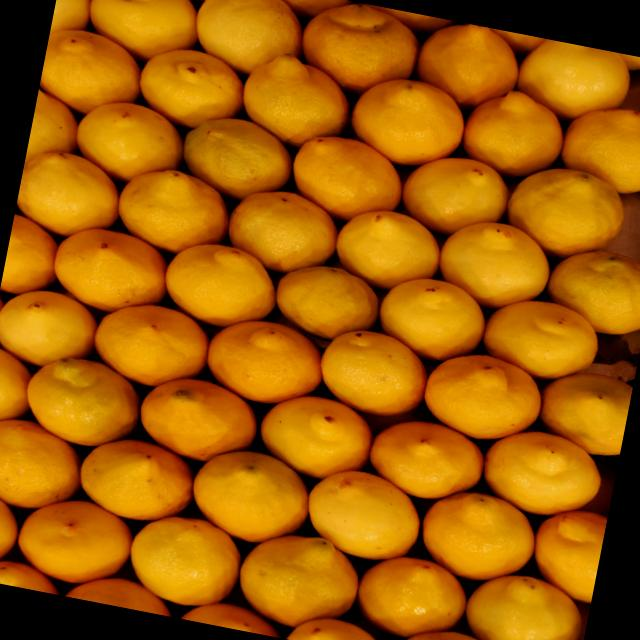lemon: (185, 440, 320, 550), (232, 524, 364, 636), (414, 482, 542, 590), (477, 420, 609, 524), (123, 506, 250, 614), (300, 461, 428, 567), (234, 46, 358, 155), (346, 66, 472, 173), (22, 348, 146, 456), (133, 366, 263, 469), (255, 384, 384, 487), (295, 0, 425, 101), (501, 162, 627, 266), (418, 346, 546, 448), (14, 490, 140, 592), (364, 407, 492, 507), (74, 430, 201, 530), (89, 295, 216, 394), (203, 312, 328, 412), (360, 408, 485, 507), (315, 324, 438, 424), (458, 82, 572, 185), (176, 110, 298, 206), (284, 129, 406, 224), (132, 38, 251, 135), (434, 219, 554, 315), (351, 547, 474, 640), (512, 34, 632, 128), (368, 269, 489, 362), (116, 162, 236, 255), (396, 150, 514, 244), (412, 16, 524, 115), (225, 183, 344, 274), (160, 244, 280, 334), (72, 95, 188, 188), (12, 153, 126, 243), (330, 206, 444, 296), (188, 0, 308, 81), (460, 567, 588, 640), (532, 365, 632, 458), (542, 245, 640, 339), (376, 284, 484, 366), (272, 268, 378, 345)
